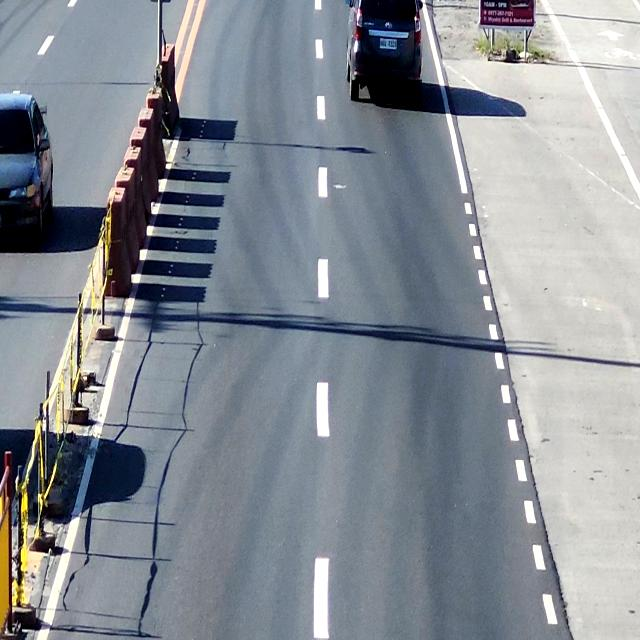Car: (342, 0, 424, 100)
License-Plate: (377, 33, 397, 53)
